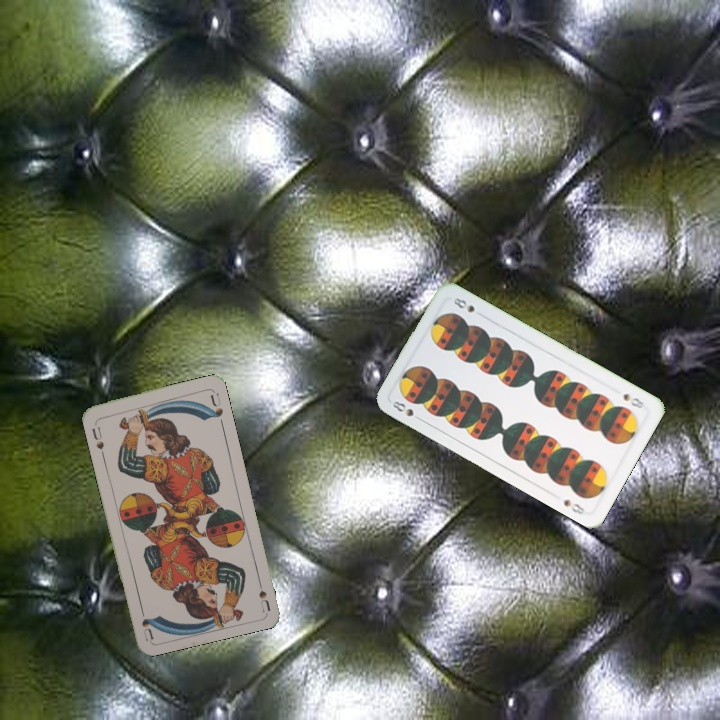S8: (388, 397, 425, 424), (619, 389, 647, 411)
SU: (253, 572, 272, 613), (88, 417, 106, 452)
